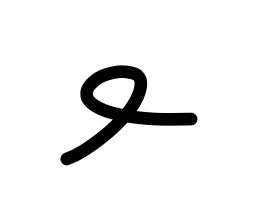o: (69, 57, 215, 137)
